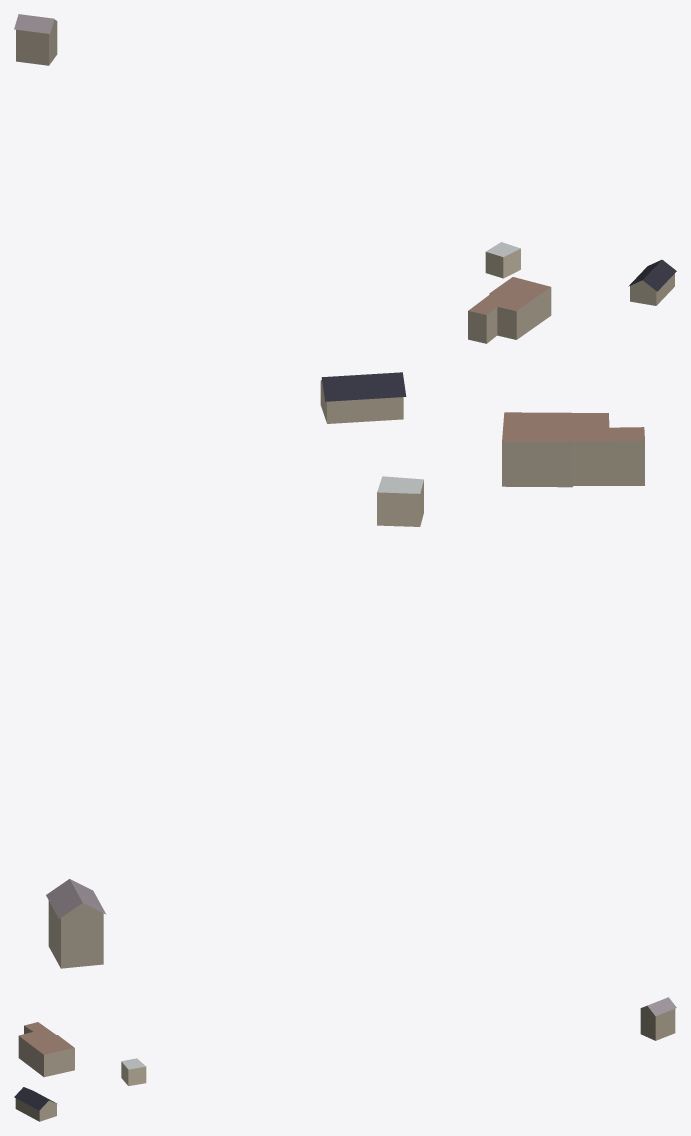
The picture shows the model from 3 angles, top to bottom: view 1: azimuth 30°, elevation 25°; view 2: azimuth 150°, elevation 25°; view 3: azimuth 270°, elevation 25°; orthographic projection. The views are drawn at different scales.
Parts seen in each view (by area): view 1: tuile; view 2: tuile; view 3: tuile.
Boxes of the visible parts, box(x1,y1,x2,y2) form: tuile: box(14, 14, 676, 343); tuile: box(46, 372, 644, 968); tuile: box(14, 997, 676, 1121).
Bounding box in the file's own units: 68.85 × 10.39 × 193.
